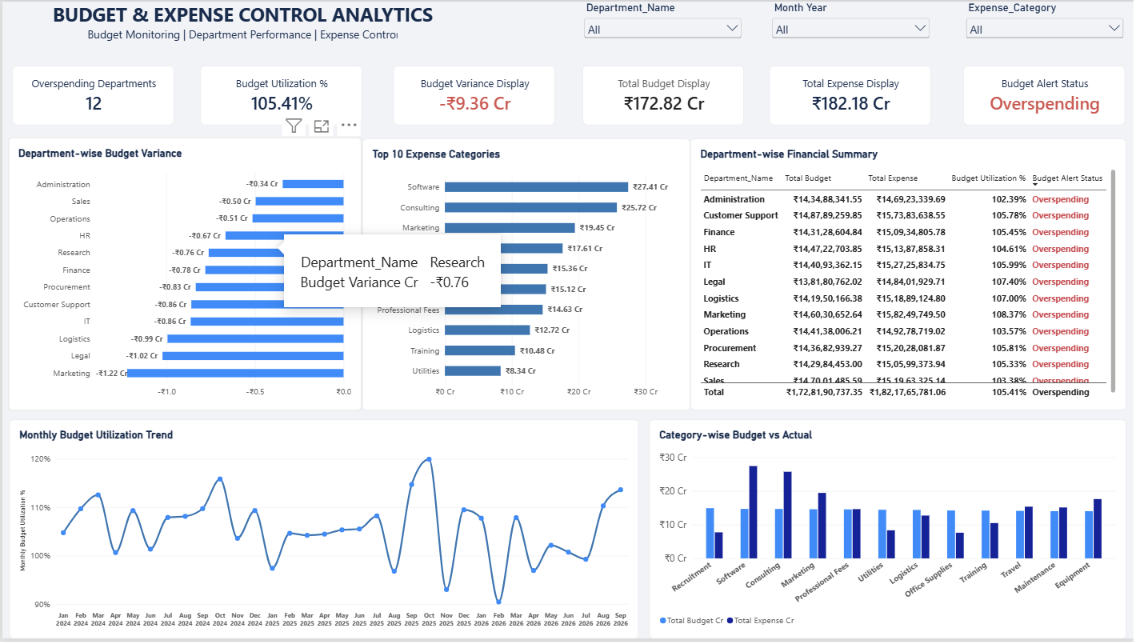

Layout of this report page (visuals, bound fields, positions):
{"tool":"powerbi","page":{"name":"2.\tBudget & Expense Control","canvas":[1920,1080],"ordinal":1},"visuals":[{"type":"cardVisual","fields":{"Data":["finance_mis cleaned_departments.Overspending Departments"]},"box":[16.7,109.3,274.1,101.9],"z":0},{"type":"cardVisual","fields":{"Data":["finance_mis cleaned_transactions.Budget Utilization %","finance_mis cleaned_transactions.Budget Utilization %"]},"box":[335.2,109.3,274.1,101.9],"z":1000},{"type":"cardVisual","fields":{"Data":["finance_mis cleaned_transactions.Budget Variance Display"]},"box":[663,109.3,274.1,101.9],"z":2000},{"type":"cardVisual","fields":{"Data":["finance_mis cleaned_transactions.Total Expense Display"]},"box":[1300,109.3,274.1,101.9],"z":3000},{"type":"clusteredBarChart","title":"Department-wise Budget Variance","fields":{"Category":["finance_mis cleaned_departments.Department_Name"],"Y":["finance_mis cleaned_transactions.Budget Variance Cr"]},"box":[10.5,230.2,598.3,462.2],"z":4000},{"type":"clusteredBarChart","title":"Top 10 Expense Categories","fields":{"Category":["finance_mis cleaned_transactions.Expense_Category"],"Y":["finance_mis cleaned_transactions.Total Expense Cr"]},"box":[610,232,556.4,460.5],"z":5000},{"type":"clusteredColumnChart","title":"Category-wise Budget vs Actual","fields":{"Category":["Dim_Expense_Category.Expense_Category"],"Y":["finance_mis cleaned_monthly_budget.Total Budget Cr","finance_mis cleaned_transactions.Total Expense Cr"]},"box":[1096,708,808,372],"z":6000},{"type":"lineChart","title":"Monthly Budget Utilization Trend","fields":{"Category":["Calendar.Month Year"],"Y":["finance_mis cleaned_transactions.Monthly Budget Utilization %"]},"box":[12,708,1066,372],"z":7000},{"type":"cardVisual","fields":{"Data":["finance_mis cleaned_transactions.Budget Alert Status"]},"box":[1629.6,109.3,274.1,101.9],"z":8000},{"type":"tableEx","title":"Department-wise Financial Summary","fields":{"Values":["finance_mis cleaned_departments.Department_Name","finance_mis cleaned_monthly_budget.Total Budget","finance_mis cleaned_transactions.Total Expense","finance_mis cleaned_transactions.Budget Utilization %","finance_mis cleaned_transactions.Budget Alert Status"]},"box":[1166,232,738,460],"z":9000},{"type":"textbox","box":[16,0,784,96],"z":10000},{"type":"cardVisual","fields":{"Data":["finance_mis cleaned_monthly_budget.Total Budget Display"]},"box":[983.3,109.3,274.1,101.9],"z":11000},{"type":"slicer","fields":{"Values":["finance_mis cleaned_departments.Department_Name"]},"box":[982,0,276,102],"z":11001},{"type":"slicer","fields":{"Values":["Calendar.Month Year"]},"box":[1300,0,276,102],"z":11002},{"type":"slicer","fields":{"Values":["Dim_Expense_Category.Expense_Category"]},"box":[1628,0,276,102],"z":11003}]}

Visuals, with their boxes in screenshot pixels (x1, y1, x2, y2), scaled from the page's 1920x1080 canvas onto the 1134x642 screenshot:
cardVisual - finance_mis cleaned_departments.Overspending Departments: [10,65,172,126]
cardVisual - finance_mis cleaned_transactions.Budget Utilization % x finance_mis cleaned_transactions.Budget Utilization %: [198,65,360,126]
cardVisual - finance_mis cleaned_transactions.Budget Variance Display: [392,65,553,126]
cardVisual - finance_mis cleaned_transactions.Total Expense Display: [768,65,930,126]
"Department-wise Budget Variance" clusteredBarChart: [6,137,360,412]
"Top 10 Expense Categories" clusteredBarChart: [360,138,689,412]
"Category-wise Budget vs Actual" clusteredColumnChart: [647,421,1125,641]
"Monthly Budget Utilization Trend" lineChart: [7,421,637,641]
cardVisual - finance_mis cleaned_transactions.Budget Alert Status: [962,65,1124,126]
"Department-wise Financial Summary" tableEx: [689,138,1125,411]
textbox: [9,0,472,57]
cardVisual - finance_mis cleaned_monthly_budget.Total Budget Display: [581,65,743,126]
slicer - finance_mis cleaned_departments.Department_Name: [580,0,743,61]
slicer - Calendar.Month Year: [768,0,931,61]
slicer - Dim_Expense_Category.Expense_Category: [962,0,1125,61]
